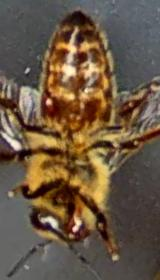varroa_mite: (30, 74, 72, 126)
